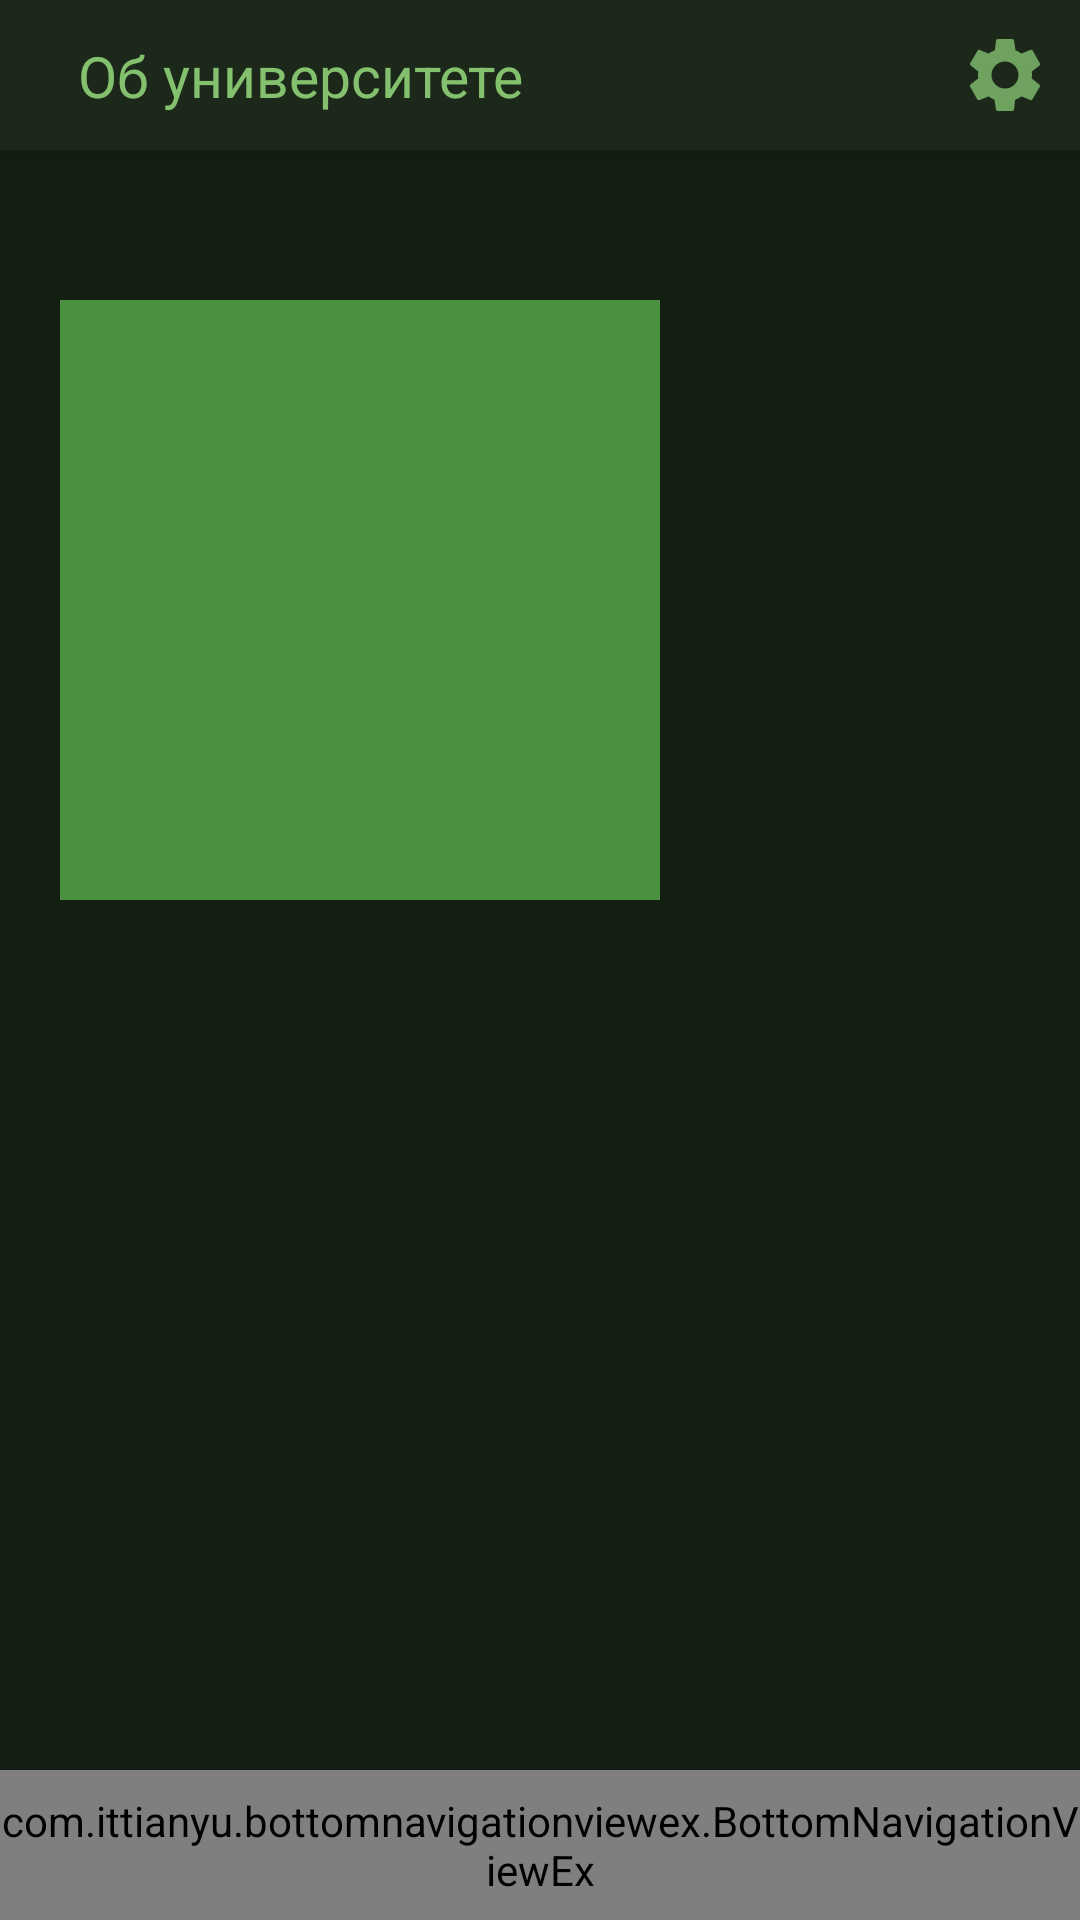

Point at icon controls on the screen. Image size 1080*1920, points as point (x, y).
setting: point (1005, 75)
